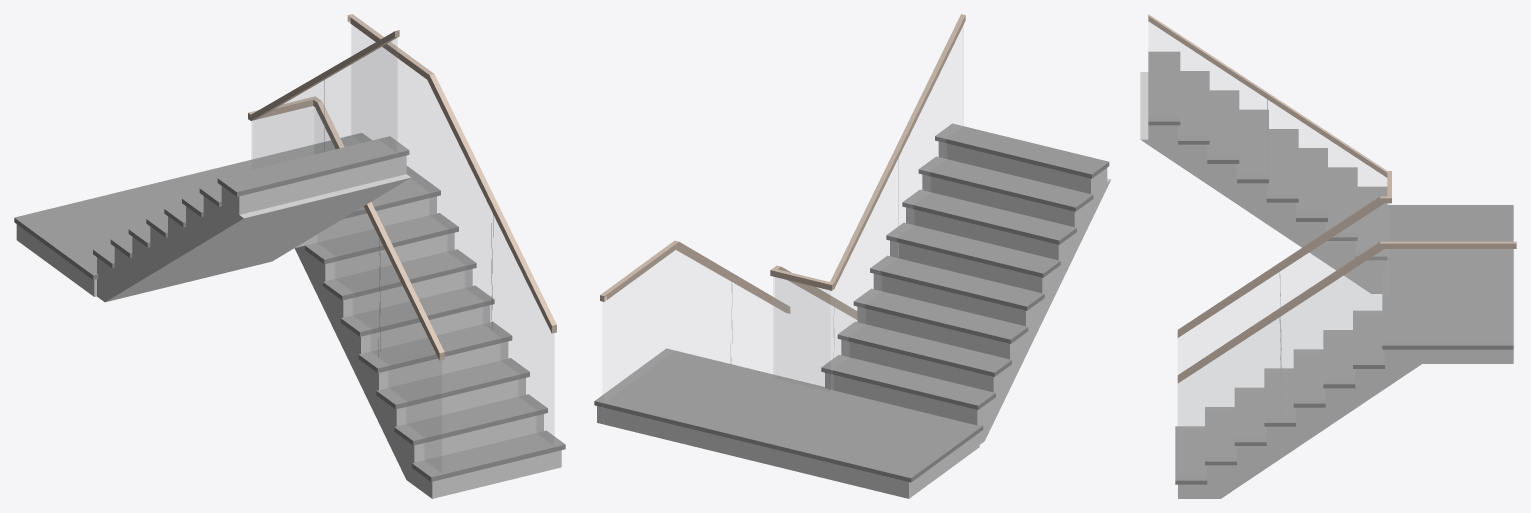
The model's file is glass-stairs-lite.glb.
3 renders of one model, left to right at view 1: azimuth 30°, elevation 25°; view 2: azimuth 150°, elevation 25°; view 3: azimuth 270°, elevation 25°, orthographic. The views are drawn at different scales.
Parts seen in each view (by area): view 1: Geom3D (×6); view 2: Geom3D (×6); view 3: Geom3D (×6).
Part boxes in pixels (x1,y1,x2,y2): Geom3D (×6): (14, 14, 565, 498); Geom3D (×6): (594, 14, 1111, 498); Geom3D (×6): (1140, 14, 1516, 498).
Size of the model in its own units: 2.51 by 3.41 by 2.84.
